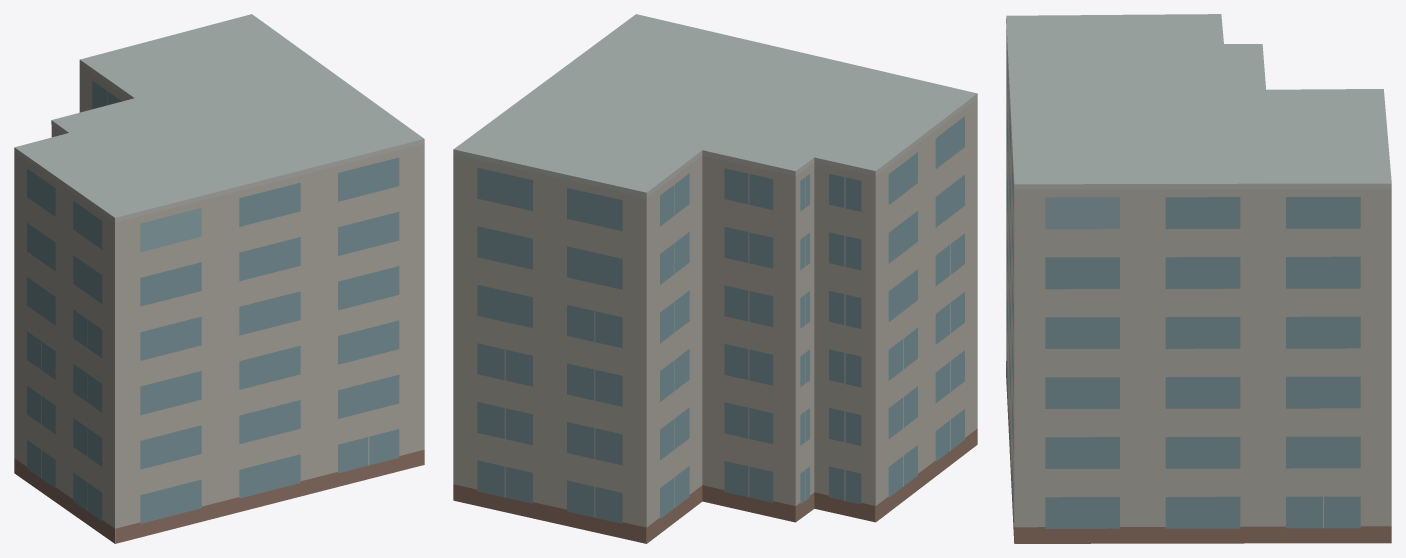
File: survey-upis-32765926.glb
The picture shows the model from 3 angles, left to right: view 1: azimuth 30°, elevation 25°; view 2: azimuth 150°, elevation 25°; view 3: azimuth 270°, elevation 25°; orthographic projection. The views are drawn at different scales.
Visible parts, largest first — view 1: survey-upis-32765926.tmp; view 2: survey-upis-32765926.tmp; view 3: survey-upis-32765926.tmp.
Part boxes in pixels (x1,y1,x2,y2): survey-upis-32765926.tmp: (14, 14, 424, 543); survey-upis-32765926.tmp: (453, 14, 977, 543); survey-upis-32765926.tmp: (1006, 14, 1391, 543).
Bounding box in the file's own units: 17.17 × 16.9 × 16.44.
